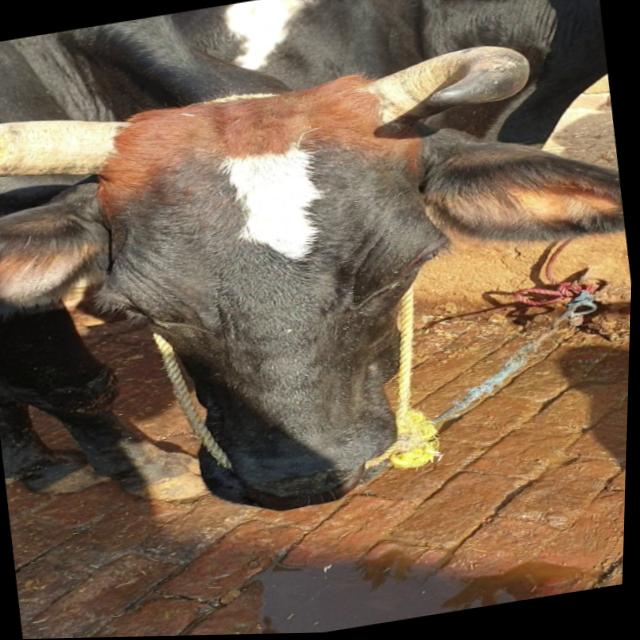cowFace: (75, 58, 507, 538)
